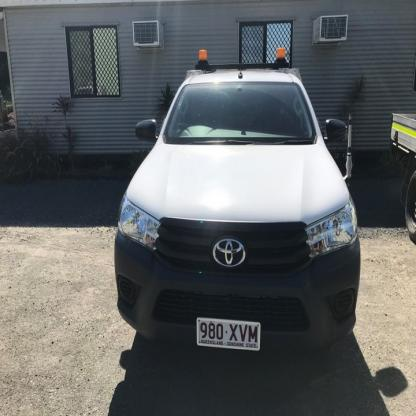light_vehicle: (109, 41, 366, 359)
